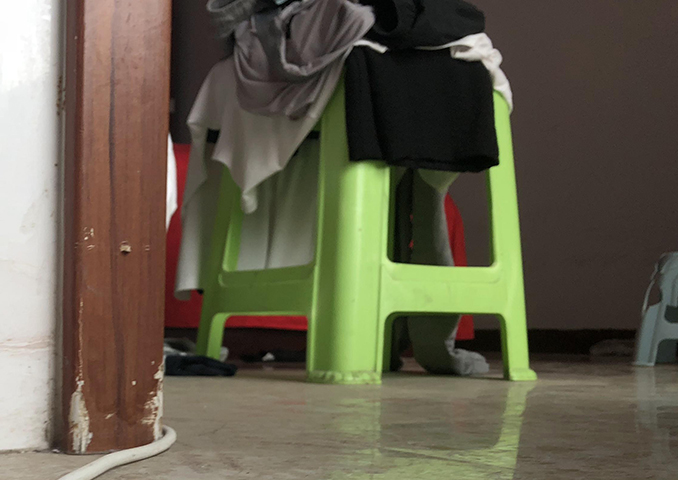stool: (196, 78, 536, 385)
wire: (50, 423, 184, 479)
